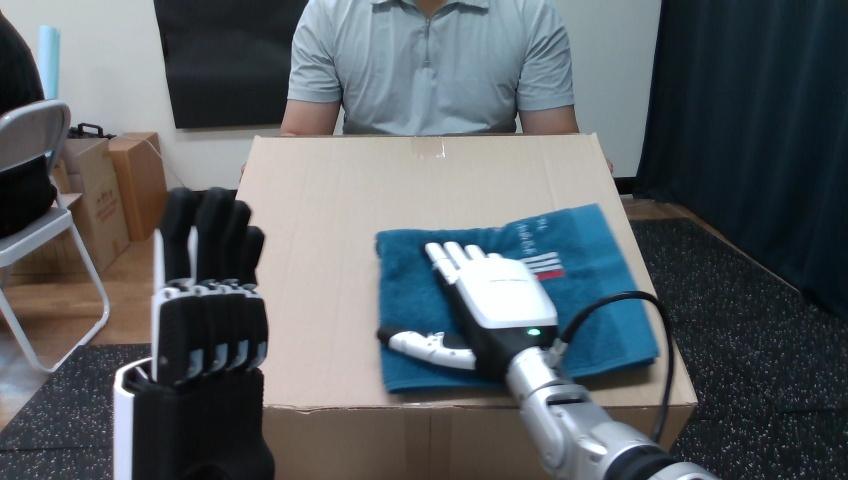left robot hand: (377, 241, 717, 479), (114, 187, 273, 478), (560, 298, 668, 439)
